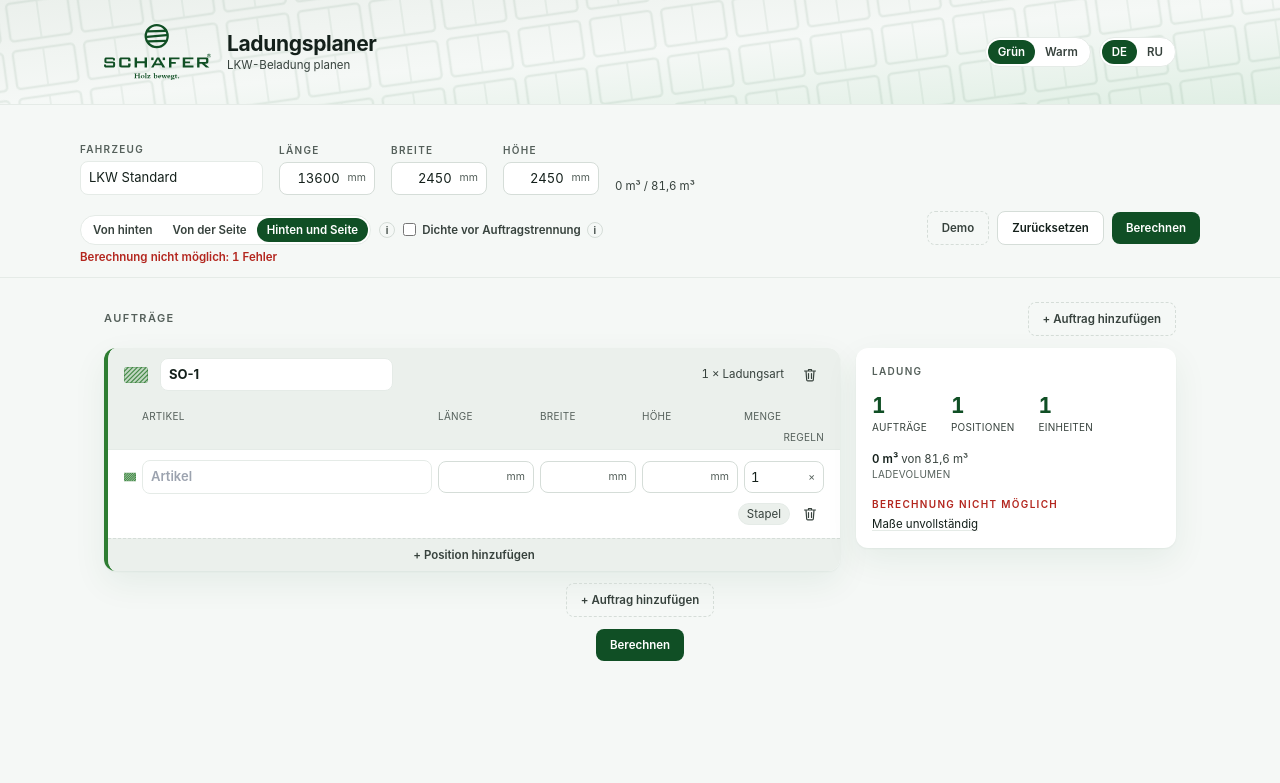
Scenario: SetupScreen › names the loaded demo variant, and drops the caption once the user edits
Click the button "Demo" at (958, 228), box [927, 210, 989, 245]
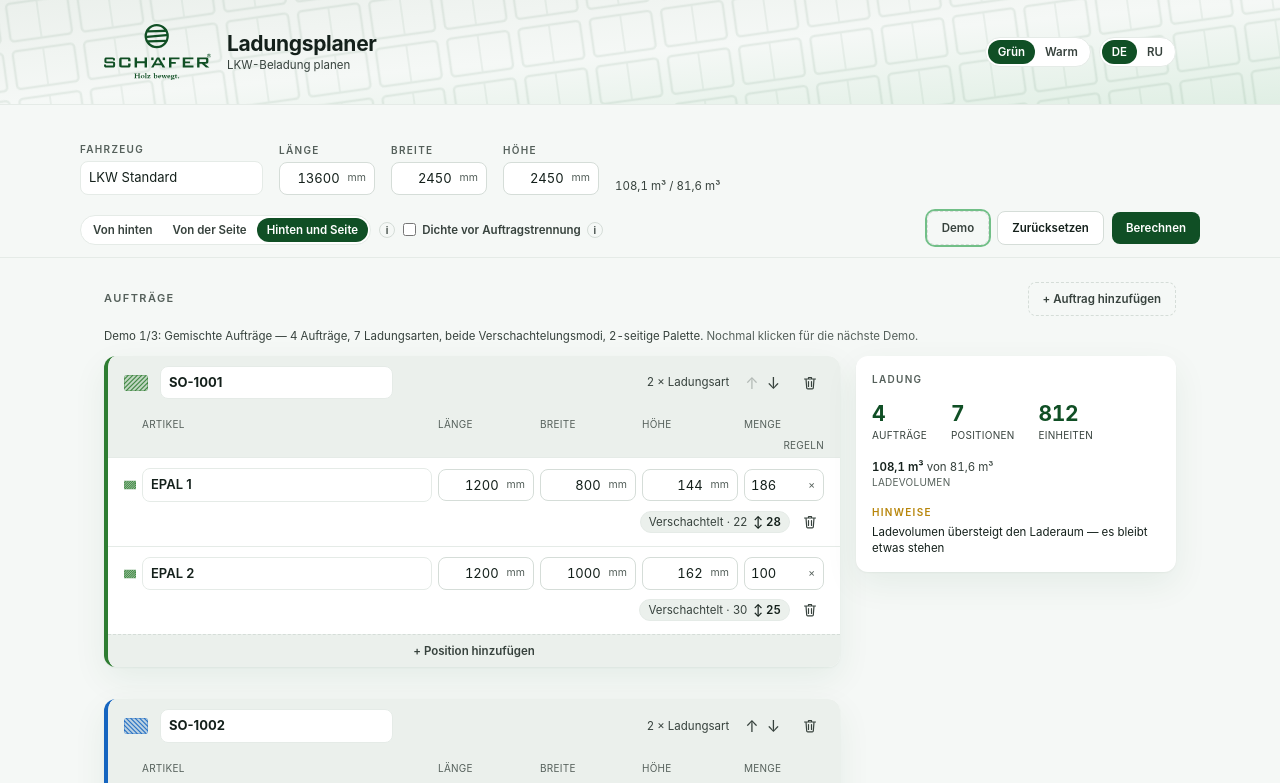
Result: the element with test id "demo-caption" shows "Demo 1/3: Gemischte Aufträge" at [104, 329, 287, 343]
Type "X" into the 1st field named "Auftrags-ID" at (276, 383), box [160, 366, 393, 399]
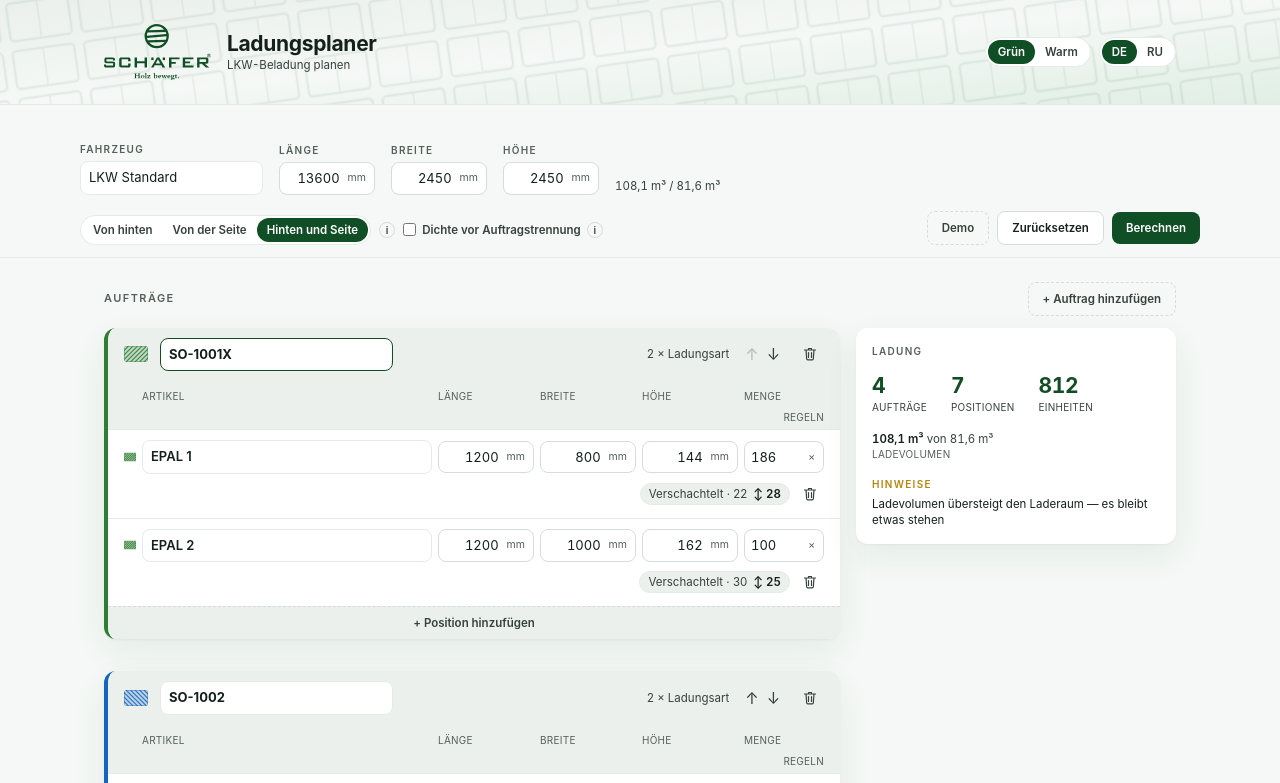
Result: the element with test id "demo-caption" is gone
